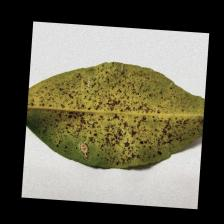canker: (54, 82, 156, 144)
